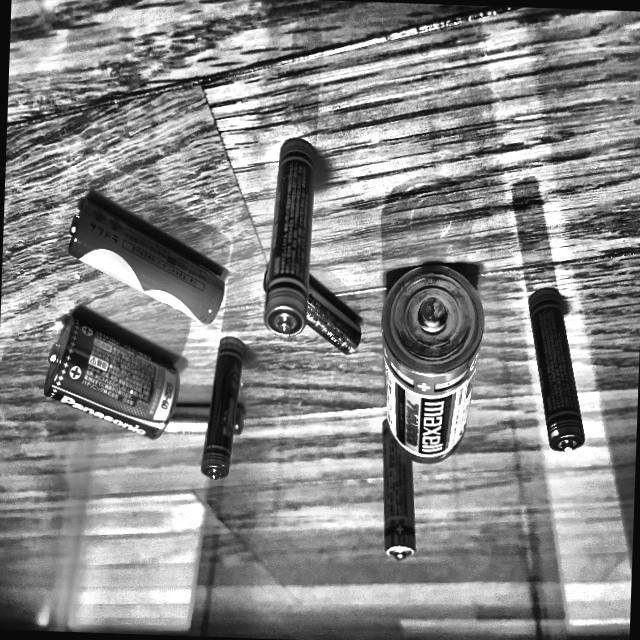drycell: (510, 280, 600, 462), (366, 417, 426, 568)
